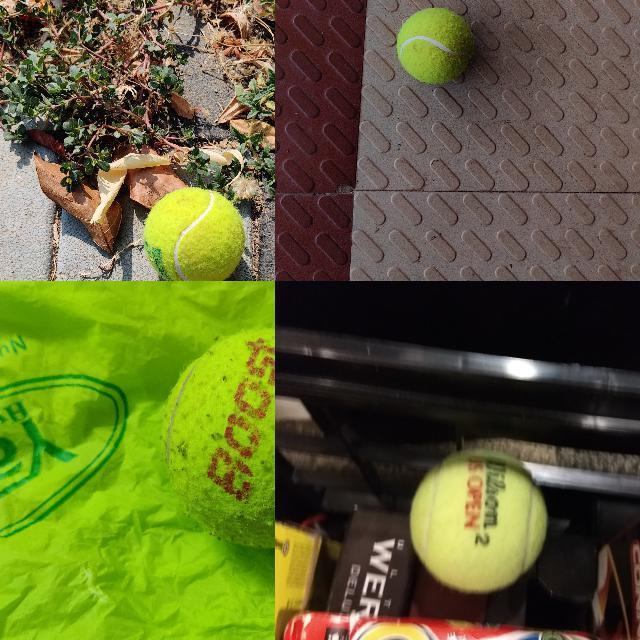tennis-ball: (160, 327, 274, 547), (408, 448, 549, 595), (143, 187, 246, 280), (397, 7, 474, 83)
